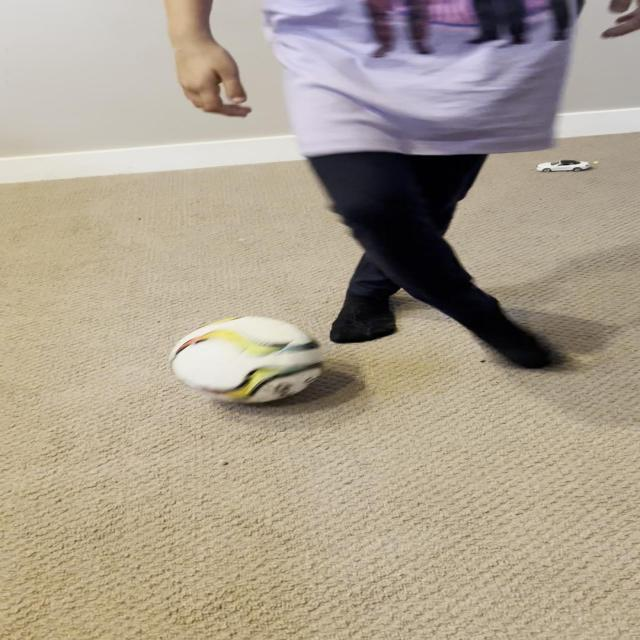Soccer Ball: (169, 315, 322, 404)
